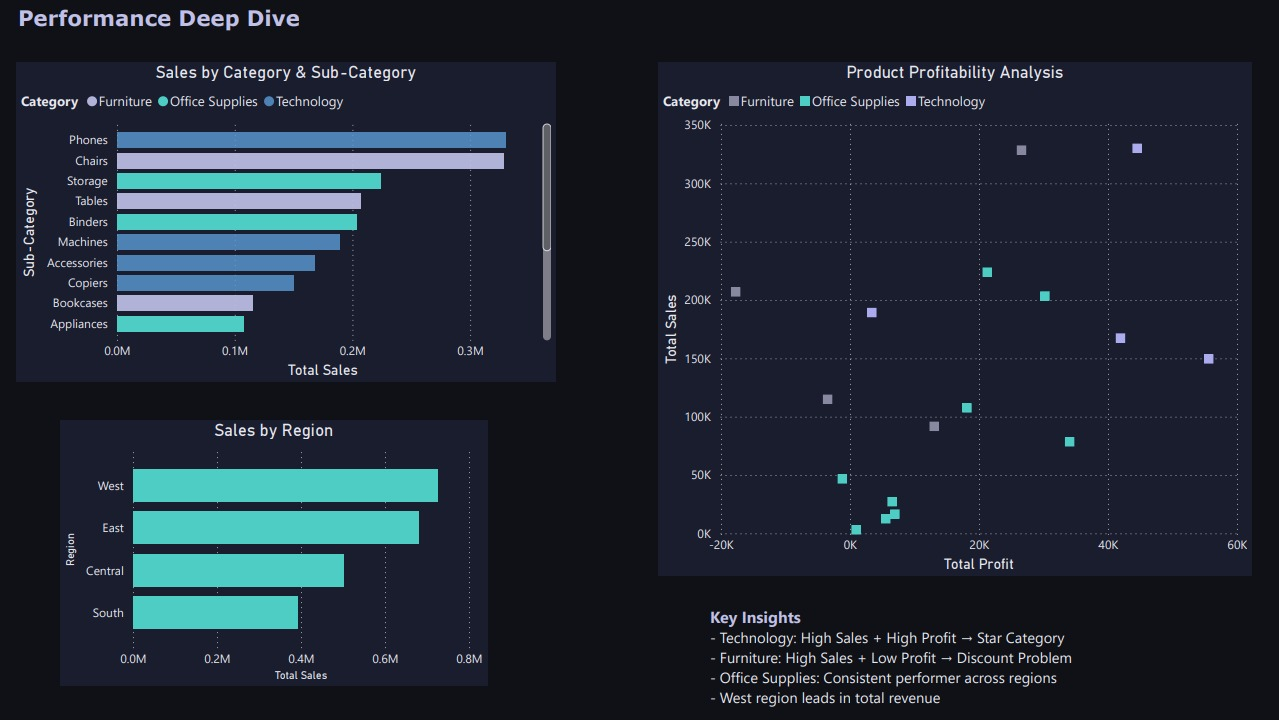

The dashboard page shown, as its layout file describes it:
{"tool":"powerbi","page":{"name":"Performance Deep Dive","canvas":[1280,720],"ordinal":2},"visuals":[{"type":"barChart","title":"Sales by Region","fields":{"Y":["Sum(Sample - Superstore.Sales)"],"Category":["Sample - Superstore.Region"]},"box":[60,420,428,266],"z":0},{"type":"scatterChart","title":"Product Profitability Analysis","fields":{"X":["Sum(Sample - Superstore.Profit)"],"Y":["Sum(Sample - Superstore.Sales)"],"Series":["Sample - Superstore.Category"],"Category":["Sample - Superstore.Sub-Category"]},"box":[658,62,594,514],"z":1000},{"type":"barChart","title":"Sales by Category & Sub-Category","fields":{"Y":["Sum(Sample - Superstore.Sales)"],"Category":["Sample - Superstore.Sub-Category"],"Series":["Sample - Superstore.Category"]},"box":[16,62,540,320],"z":2000},{"type":"textbox","box":[704.6,601.3,548.8,119.3],"z":3000},{"type":"textbox","box":[13,0,305,40],"z":4000}]}

Visuals, with their boxes in screenshot pixels (x1, y1, x2, y2), scaled from the page's 1280x720 canvas onto the 1279x721 screenshot:
"Sales by Region" barChart: Rect(60, 421, 488, 687)
"Product Profitability Analysis" scatterChart: Rect(657, 62, 1251, 577)
"Sales by Category & Sub-Category" barChart: Rect(16, 62, 556, 383)
textbox: Rect(704, 602, 1252, 720)
textbox: Rect(13, 0, 318, 40)
